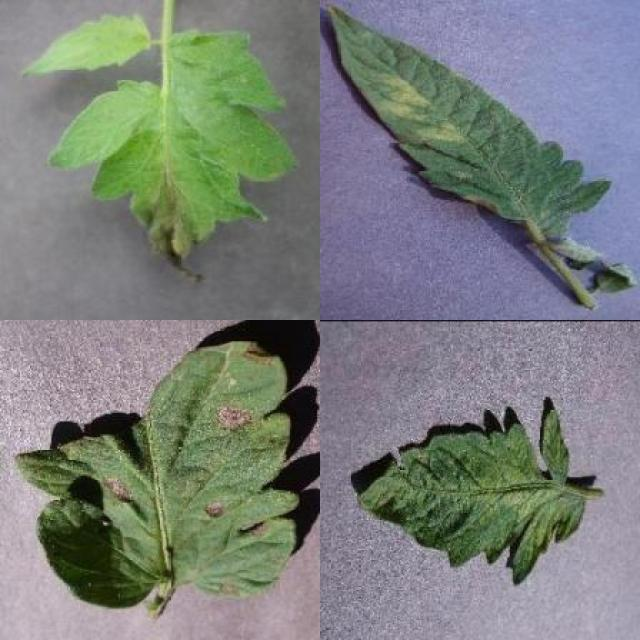Early Blight: (17, 338, 299, 612)
Healthy: (18, 12, 152, 74)
Late Blight: (50, 27, 300, 287)
Leaf Mold: (325, 3, 614, 236)
Mosaic Virus: (352, 404, 587, 589)
